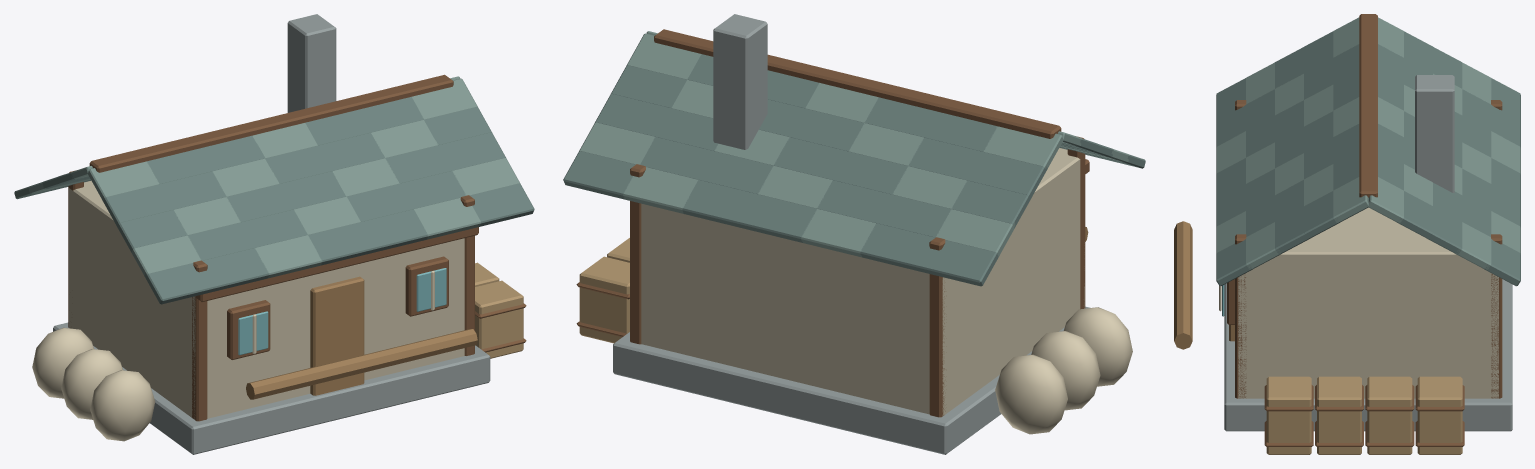
The model's file is workshop.glb.
3 views of the same model, side by side, from view 1: azimuth 30°, elevation 25°; view 2: azimuth 150°, elevation 25°; view 3: azimuth 270°, elevation 25° (orthographic). The views are drawn at different scales.
Visible parts, largest first — view 1: Model; view 2: Model; view 3: Model.
Boxes of the visible parts, x1,y1,x2,y2 form: Model: [14, 14, 534, 454]; Model: [563, 14, 1145, 454]; Model: [1174, 14, 1520, 454].
Bounding box in the file's own units: 3.72 × 2.64 × 2.62.
